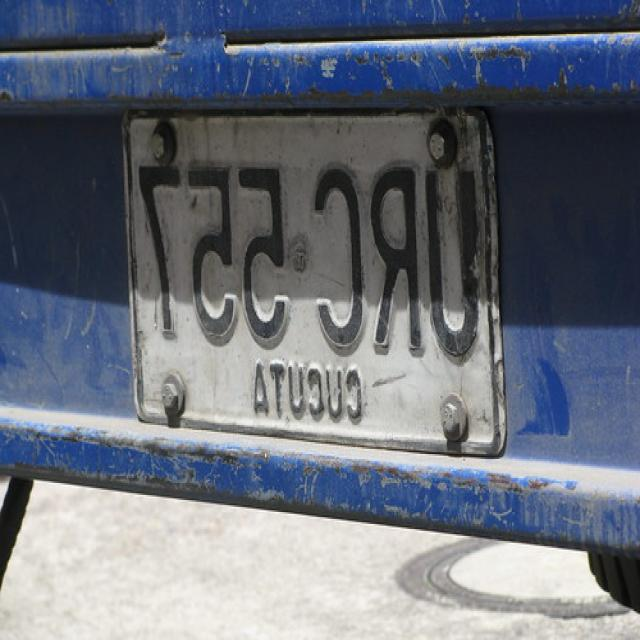placas: (121, 148, 493, 365)
